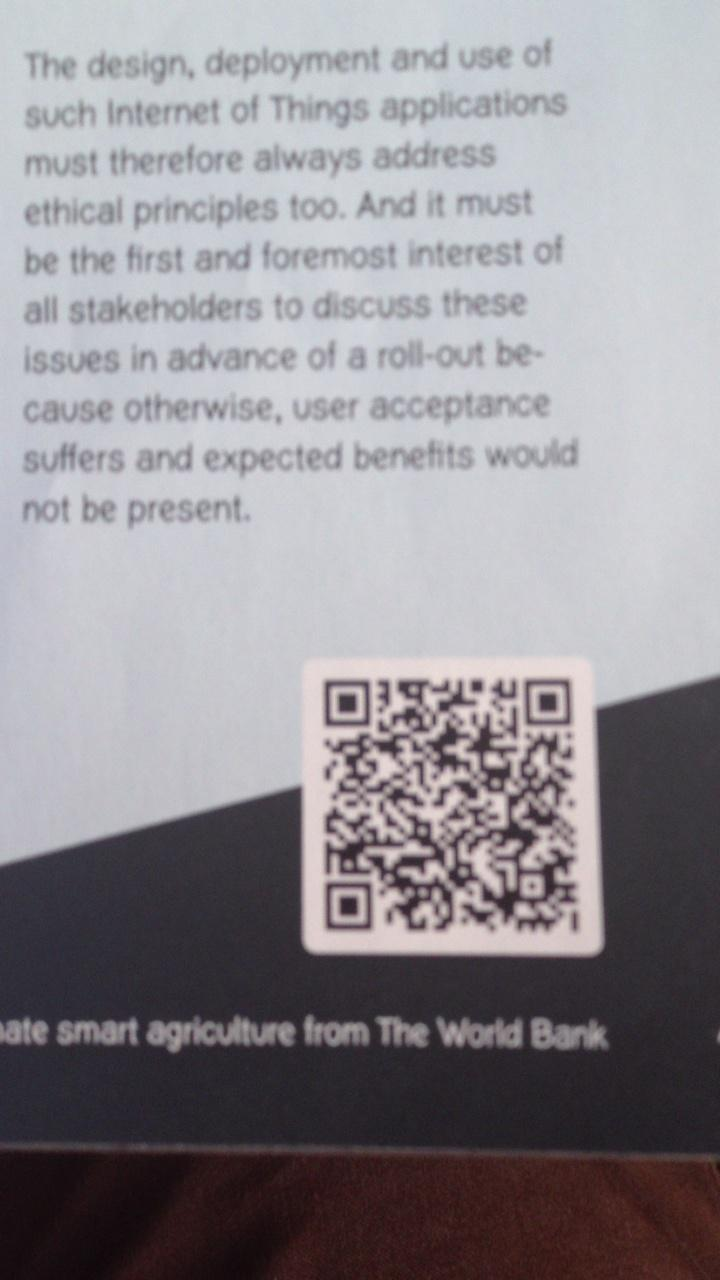Finder pattern: (317, 877, 380, 937), (516, 675, 580, 729), (317, 675, 374, 731)
